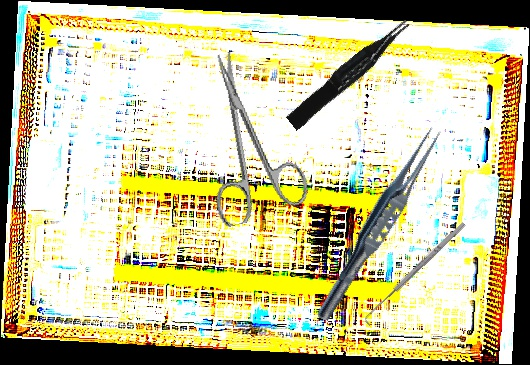Hook Surgical: (360, 220, 471, 327)
Iris Scissors: (180, 41, 314, 229)
Tissue Forceps: (311, 119, 448, 328), (281, 17, 419, 131)
